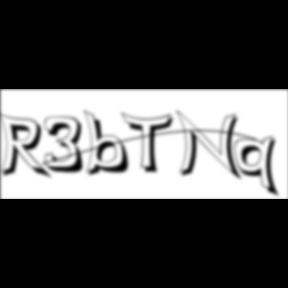3: (45, 116, 91, 176)
N: (176, 109, 246, 183)
R: (1, 112, 55, 182)
T: (121, 112, 179, 176)
b: (83, 109, 136, 179)
q: (234, 135, 284, 200)
